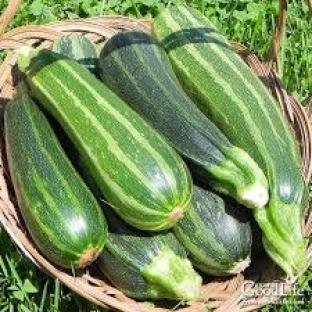Zucchini: (153, 6, 307, 274), (19, 48, 192, 230), (100, 31, 267, 207), (5, 89, 106, 267), (98, 207, 201, 299), (174, 186, 252, 275), (52, 35, 98, 73)
